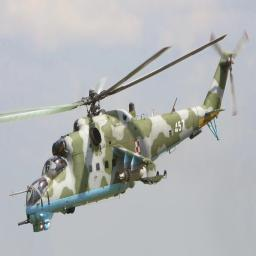helicopter: (1, 30, 249, 234)
